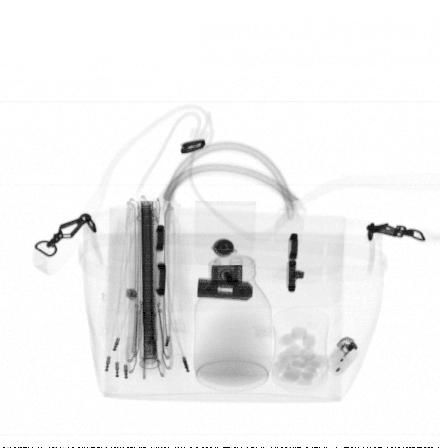Lighter: (298, 336, 360, 396)
